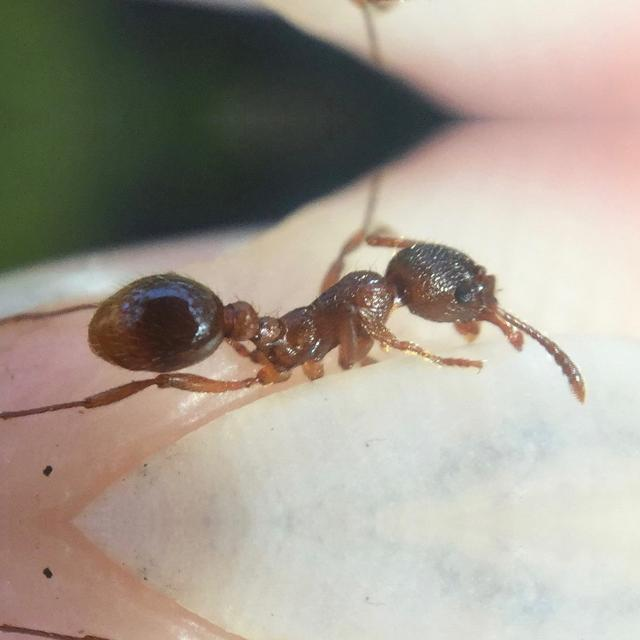Myrmica: (54, 198, 610, 420)
